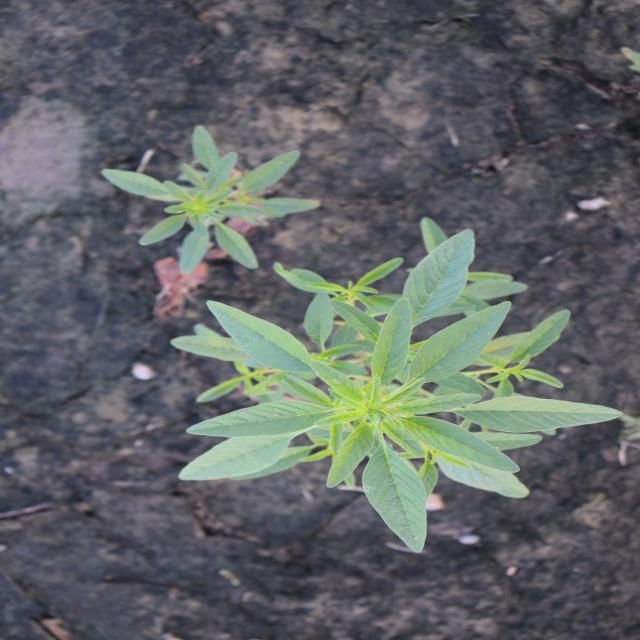Waterhemp: (166, 214, 626, 556), (98, 122, 326, 276)
